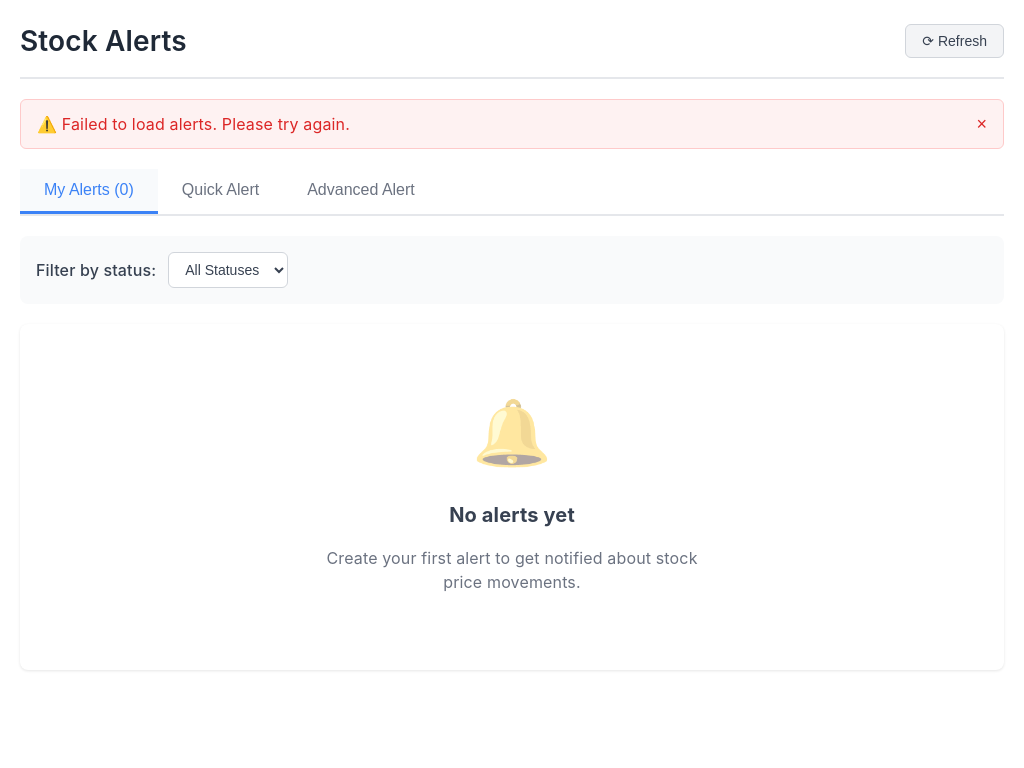
AlertManager › dismisses error messages
Expected: the text "⚠️ Failed to load alerts. Please try again." is shown, [37,112,350,136]
Note: Dismiss error
Click the button "×" at (982, 124), box [976,114,987,134]
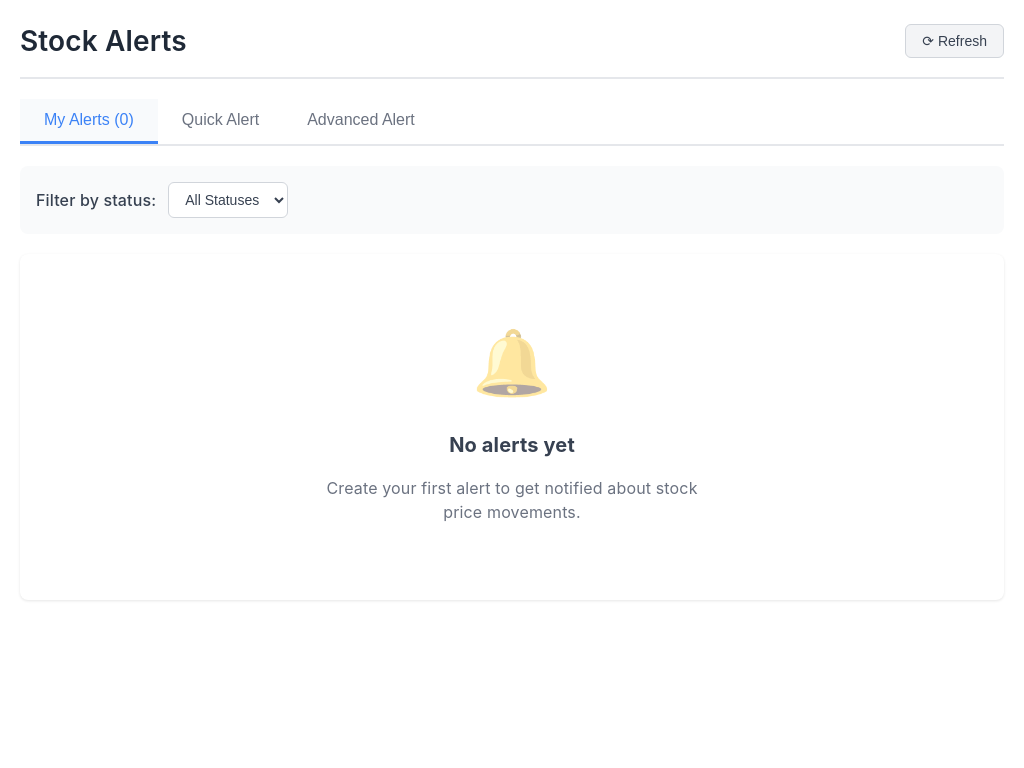
Result: the text "Failed to load alerts" is gone
